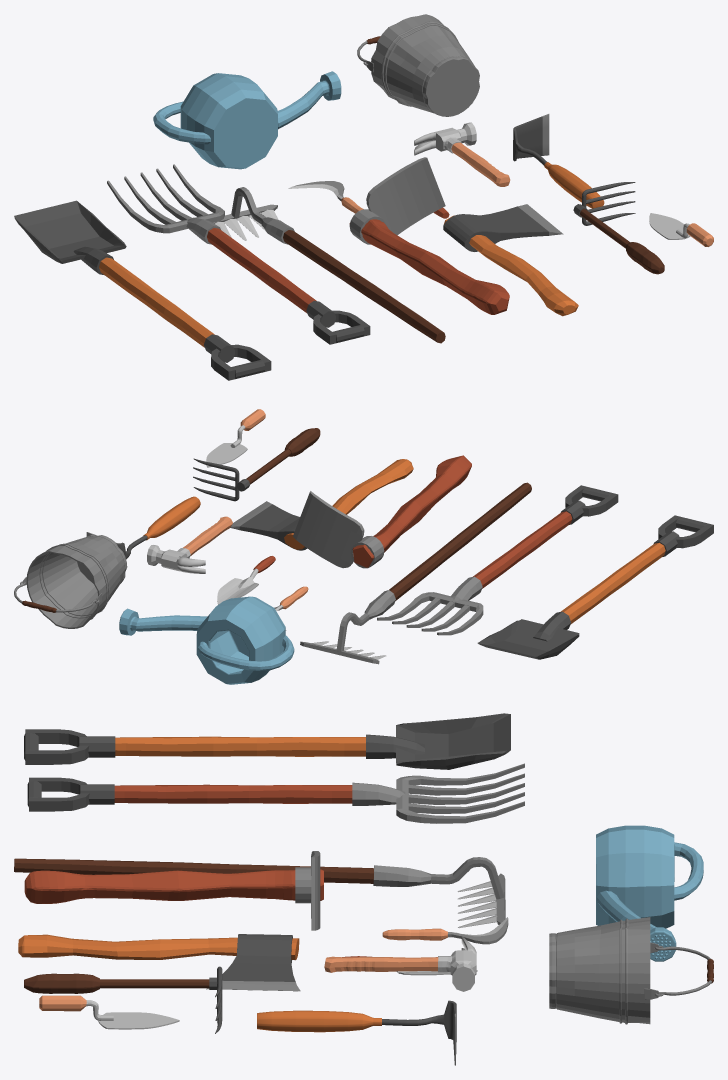
Rendered from Ferramentas.fbx.
3 renders of one model, top to bottom at view 1: azimuth 30°, elevation 25°; view 2: azimuth 150°, elevation 25°; view 3: azimuth 270°, elevation 25°, orthographic. The views are drawn at different scales.
Parts seen in each view (by area): view 1: Watering can, Shovel, iron bucket, Hoe, Pitchfork, Axe, ground fork, earth rake, Garden Fork, Hammer, Cement Trowel, Sickle; view 2: Watering can, iron bucket, Hoe, Shovel, Pitchfork, ground fork, Axe, Garden Fork, Hammer, earth rake, Cement Trowel, Shovel soil; view 3: Shovel, Pitchfork, iron bucket, Watering can, Hoe, Axe, ground fork, earth rake, Hammer, Garden Fork, Cement Trowel, Sickle.
Boxes of the visible parts, x1,y1,x2,y2 form: Watering can: (153,71,341,169); Shovel: (14,200,271,380); iron bucket: (357,14,479,116); Hoe: (349,157,509,314); Pitchfork: (107,164,370,344); Axe: (443,204,578,316); ground fork: (213,187,445,343); earth rake: (513,114,604,208); Garden Fork: (573,182,664,274); Hammer: (414,122,510,186); Cement Trowel: (649,213,713,246); Sickle: (288,181,363,213); Watering can: (119,596,294,684); iron bucket: (14,534,127,628); Hoe: (293,455,471,568); Shovel: (477,515,713,659); Pitchfork: (377,485,618,635); ground fork: (300,482,531,664); Axe: (230,459,413,550); Garden Fork: (193,428,320,501); Hammer: (147,516,232,573); earth rake: (86,496,200,559); Cement Trowel: (206,409,265,467); Shovel soil: (217,556,275,604); Shovel: (24,713,510,769); Pitchfork: (27,763,524,823); iron bucket: (549,917,713,1024); Watering can: (596,825,703,961); Hoe: (24,851,323,930); Axe: (18,934,300,991); ground fork: (14,857,505,927); earth rake: (257,1000,456,1065); Hammer: (324,936,476,991); Garden Fork: (24,966,222,1033); Cement Trowel: (39,995,179,1029); Sickle: (382,917,508,944).
Size of what is drawn, in the model's own units: 1199 by 235 by 1195.
